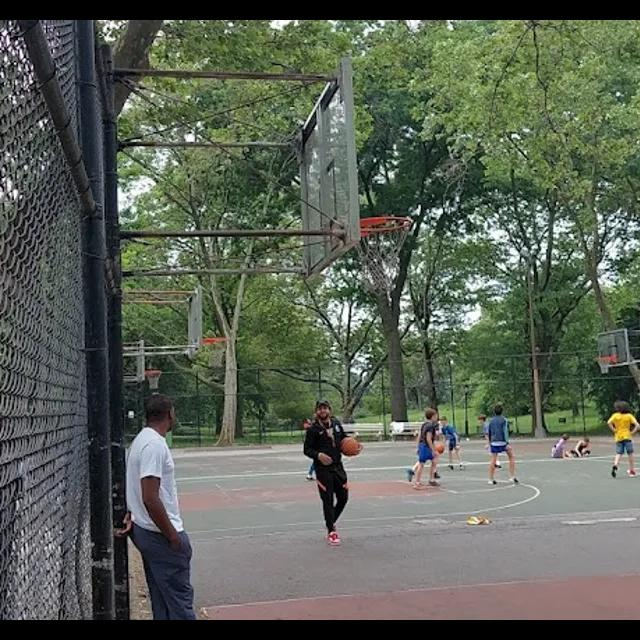basketball: (341, 438, 361, 455), (433, 442, 443, 452)
hoop: (204, 336, 227, 369), (145, 371, 162, 387), (596, 357, 612, 373)
